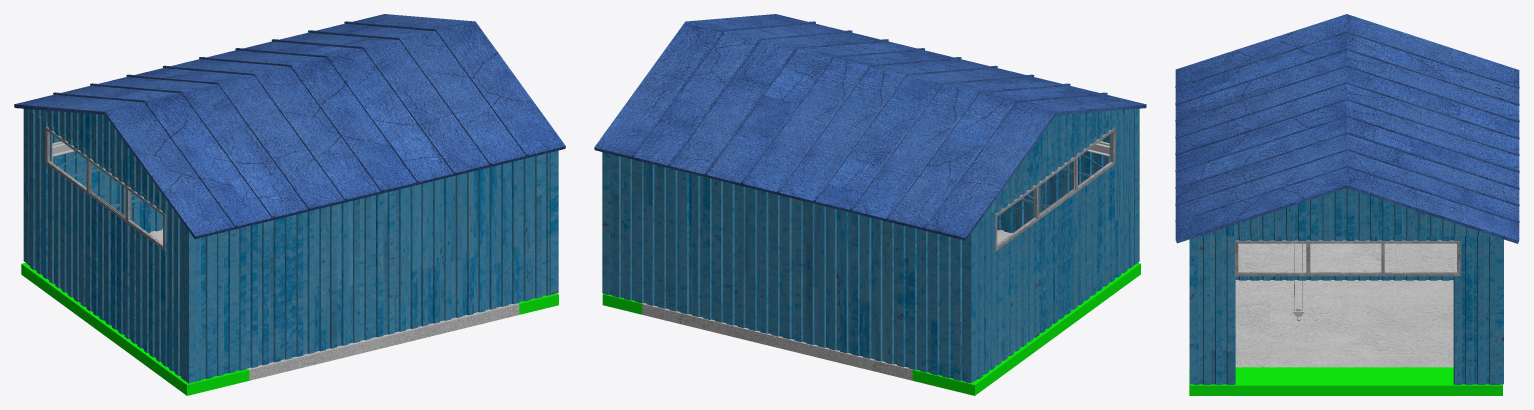
File: Barn.fbx
3 views of the same model, side by side, from view 1: azimuth 30°, elevation 25°; view 2: azimuth 150°, elevation 25°; view 3: azimuth 270°, elevation 25° (orthographic). The views are drawn at different scales.
Visible parts, largest first — view 1: walls, roof, unsafe_zone, safe_zone_2, window_2, safe_zone; view 2: walls, roof, unsafe_zone, safe_zone_2, window_2, safe_zone; view 3: roof, unsafe_zone, walls, safe_zone, window_1.
Part boxes in pixels (box(x1,y1,x2,y2)): walls: box(23, 108, 558, 383); roof: box(14, 14, 565, 239); unsafe_zone: box(149, 229, 519, 380); safe_zone_2: box(21, 262, 249, 395); window_2: box(45, 127, 165, 250); safe_zone: box(518, 293, 558, 314); walls: box(602, 108, 1139, 383); roof: box(594, 14, 1146, 240); unsafe_zone: box(642, 230, 1012, 380); safe_zone_2: box(912, 263, 1140, 395); window_2: box(995, 128, 1115, 251); safe_zone: box(602, 293, 642, 314); roof: box(1175, 14, 1519, 243); unsafe_zone: box(1189, 243, 1456, 367); walls: box(1189, 188, 1503, 384); safe_zone: box(1189, 367, 1502, 395); window_1: box(1234, 240, 1460, 276).
Bounding box in the file's own units: 177 × 102 × 150.
